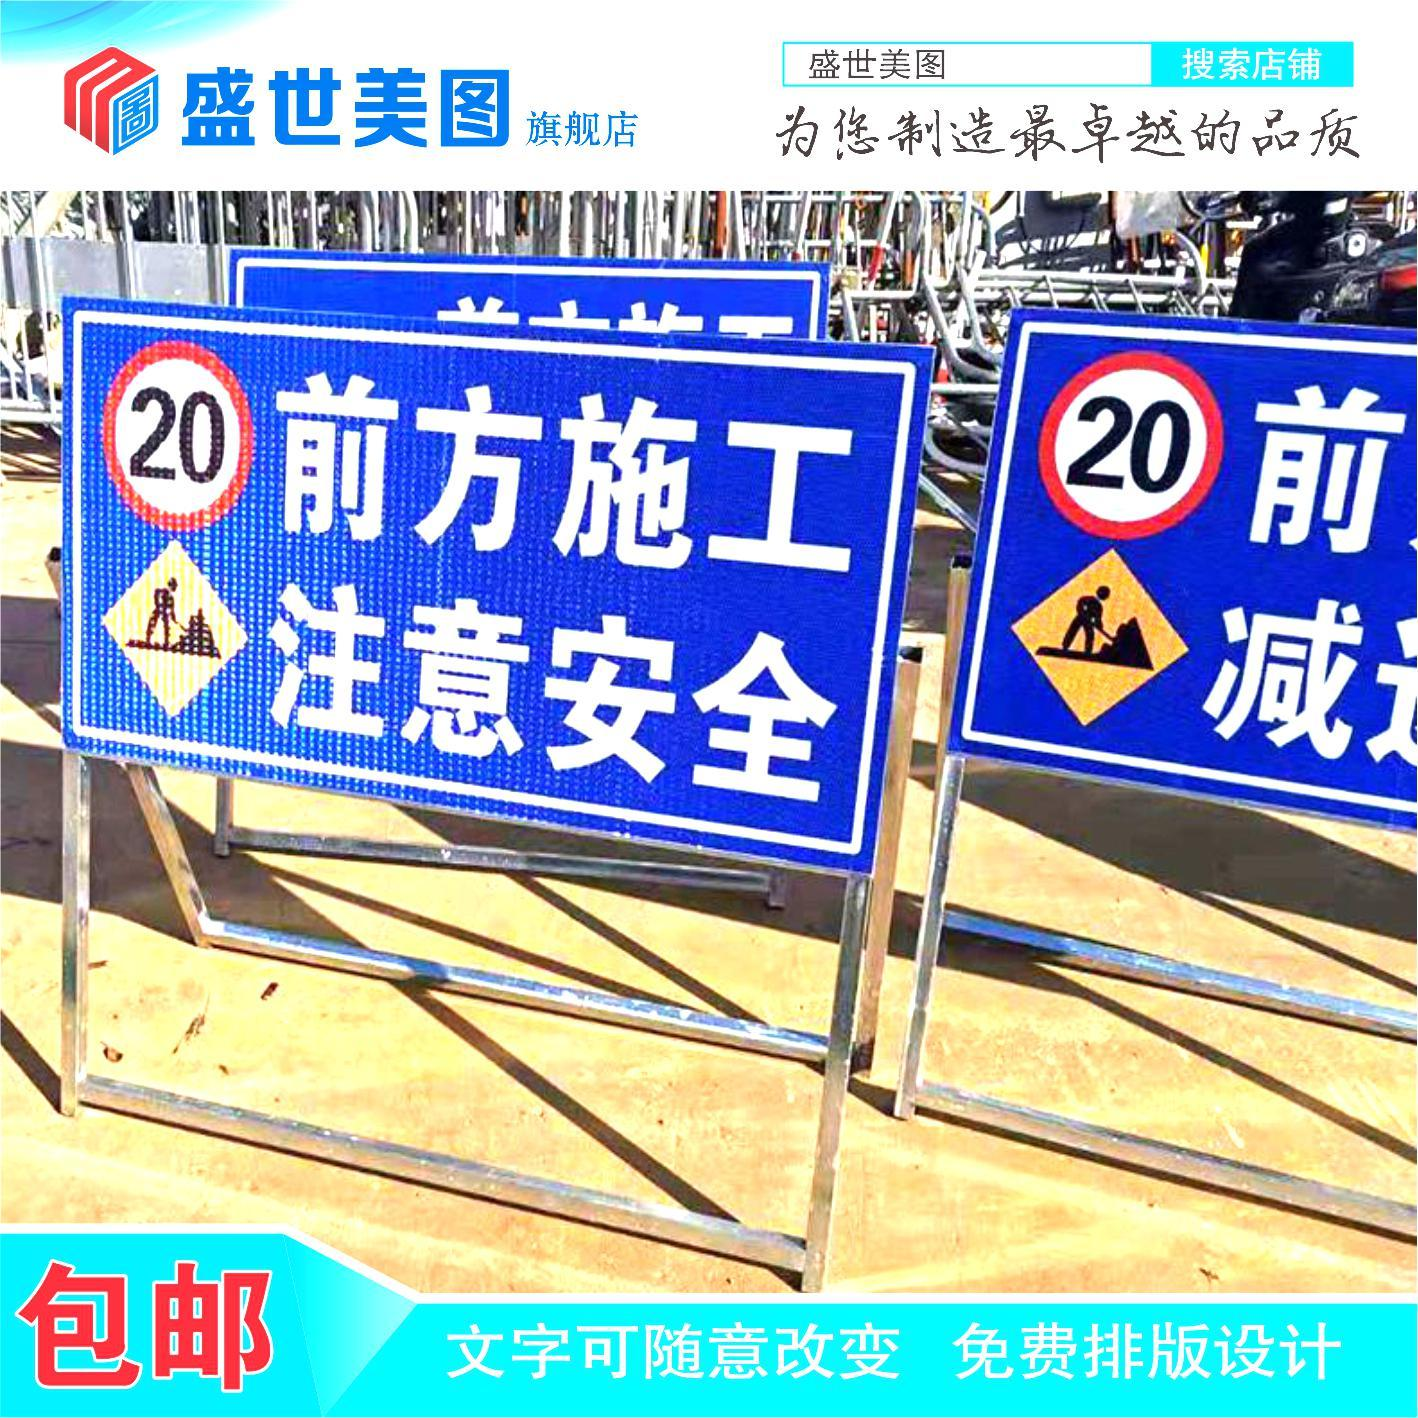sign: (65, 308, 877, 867), (1002, 316, 1418, 822)
